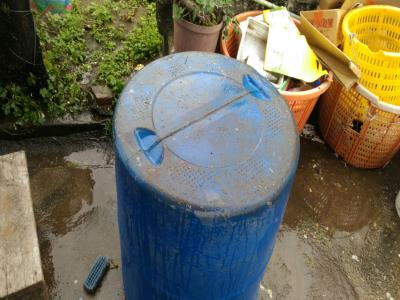box: (298, 3, 347, 47)
bucket: (108, 49, 303, 298)
